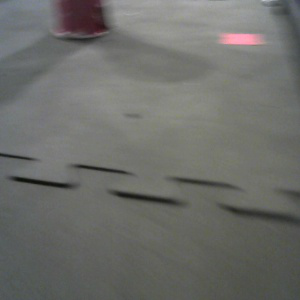right: (48, 1, 111, 40)
